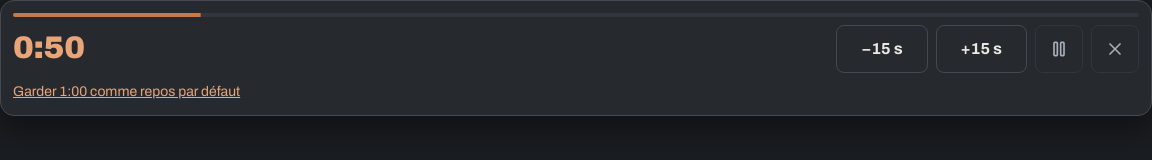
Test: RestTimer › affiche le décompte et les ajustements pendant le repos
Expected: the text with class "rest__clock" reads "0:50", [13,31,85,65]
What coordinates should you click on to do the following:
click the button "+15 s"
I would click on:
 (981, 49)
Its box is [936,25,1027,73].
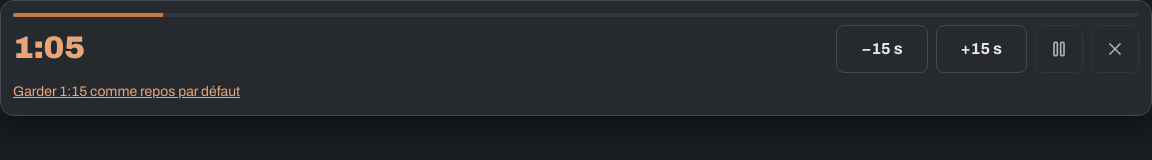
Result: the text with class "rest__clock" reads "1:05" at [13,31,85,65]
